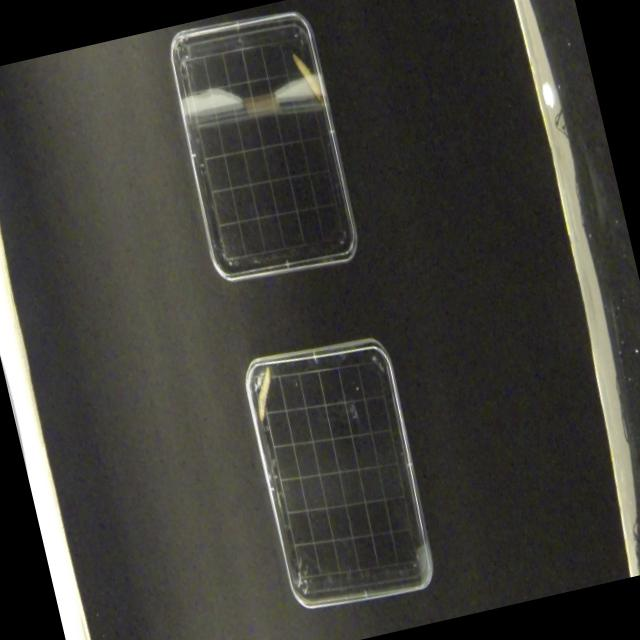larva: (248, 364, 284, 426), (288, 45, 322, 105)
